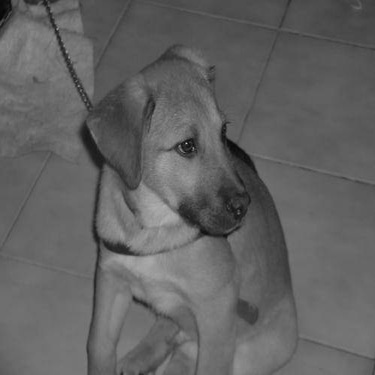dog: (57, 36, 307, 372)
